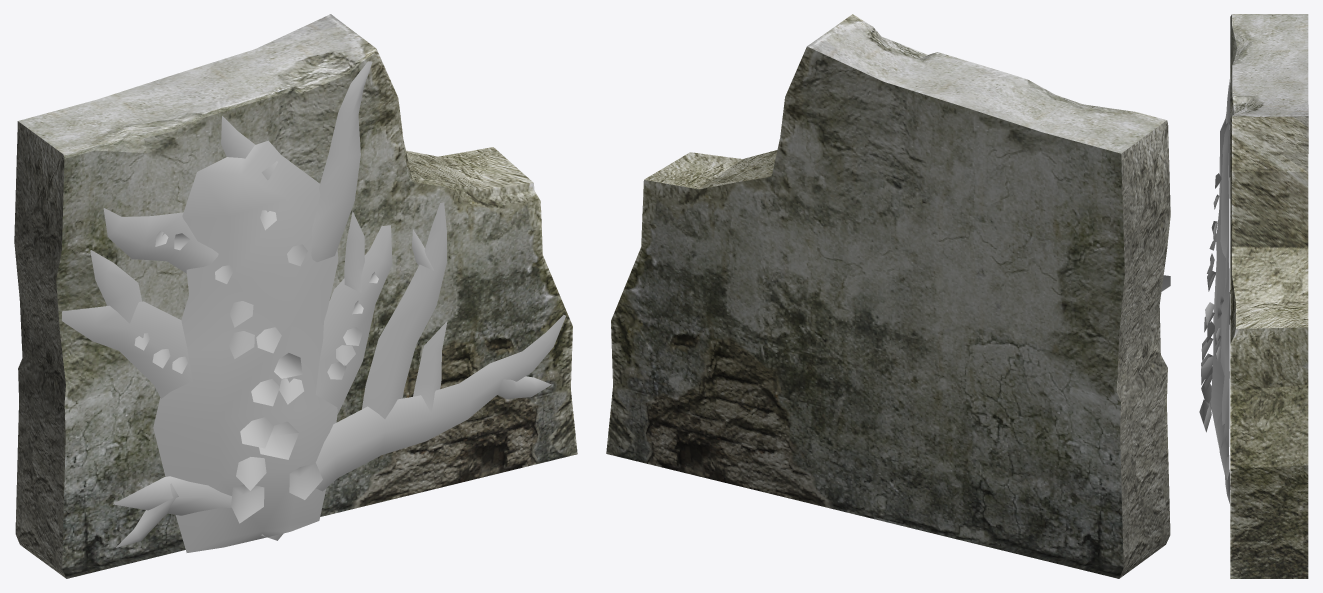
Rendered from ivy_wall.FBX.
3 renders of one model, left to right at view 1: azimuth 30°, elevation 25°; view 2: azimuth 150°, elevation 25°; view 3: azimuth 270°, elevation 25°, orthographic. The views are drawn at different scales.
Visible parts, largest first — view 1: wall, ivy_01, ivy_03, ivy_06, ivy_08, ivy_04, ivy_02, ivy_05, ivy_07, ivy_09; view 2: wall; view 3: wall, ivy_01, ivy_08, ivy_02, ivy_03, ivy_04, ivy_05.
Boxes of the visible parts, box(x1,y1,x2,y2) form: wall: box(14, 14, 577, 578); ivy_01: box(153, 140, 338, 552); ivy_03: box(261, 315, 565, 540); ivy_06: box(62, 250, 192, 398); ivy_08: box(315, 211, 392, 413); ivy_04: box(362, 202, 446, 418); ivy_02: box(311, 61, 372, 262); ivy_05: box(103, 208, 218, 273); ivy_07: box(113, 476, 231, 547); ivy_09: box(221, 116, 277, 180); wall: box(606, 14, 1170, 578); wall: box(1230, 14, 1308, 578); ivy_01: box(1199, 117, 1229, 456); ivy_08: box(1215, 237, 1229, 428); ivy_02: box(1220, 122, 1228, 262); ivy_03: box(1215, 387, 1230, 503); ivy_04: box(1222, 289, 1230, 444); ivy_05: box(1225, 83, 1230, 198).
Size of the model in its own units: 242 by 209 by 52.86.
